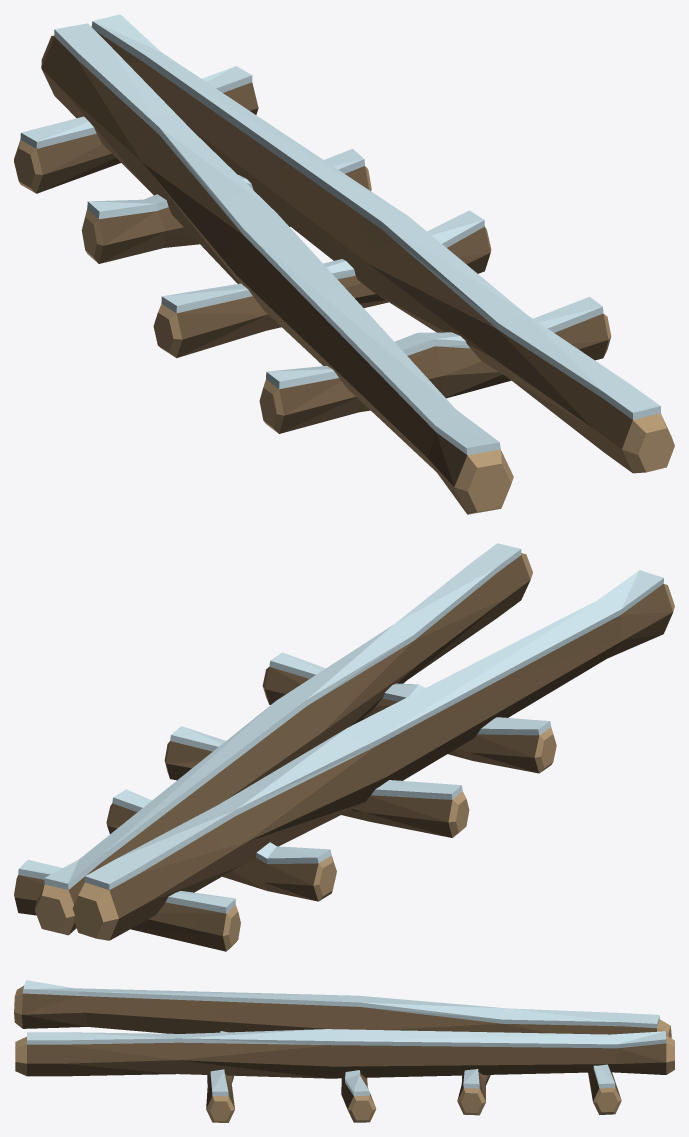
File: Barco_Rampa.glb
The picture shows the model from 3 angles, top to bottom: view 1: azimuth 30°, elevation 25°; view 2: azimuth 150°, elevation 25°; view 3: azimuth 270°, elevation 25°; orthographic projection. The views are drawn at different scales.
Visible parts, largest first — view 1: SM_Prop_BoatRamp_01_Snow; view 2: SM_Prop_BoatRamp_01_Snow; view 3: SM_Prop_BoatRamp_01_Snow.
Part boxes in pixels (x1,y1,x2,y2): SM_Prop_BoatRamp_01_Snow: (14,14,674,514); SM_Prop_BoatRamp_01_Snow: (14,543,674,951); SM_Prop_BoatRamp_01_Snow: (14,980,674,1122).
Bounding box in the file's own units: 1.09 × 0.3398 × 3.15.
1 material, 1 textured.
